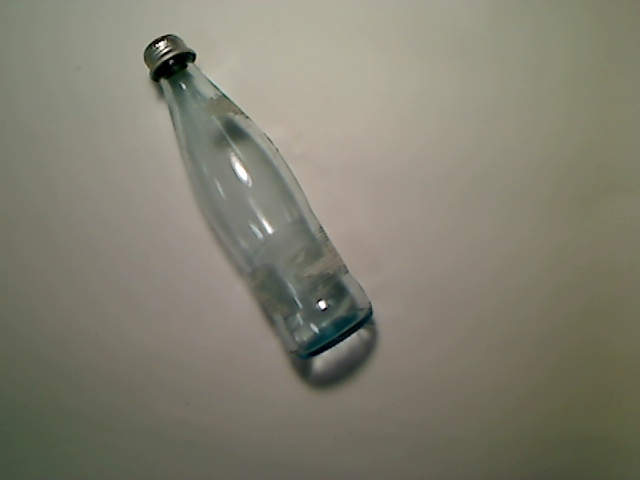bottle: (142, 33, 373, 362)
